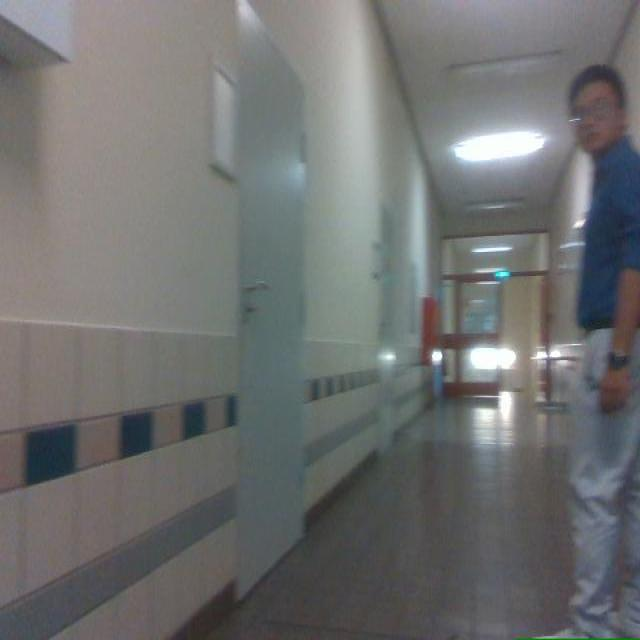humans: (565, 65, 639, 636)
